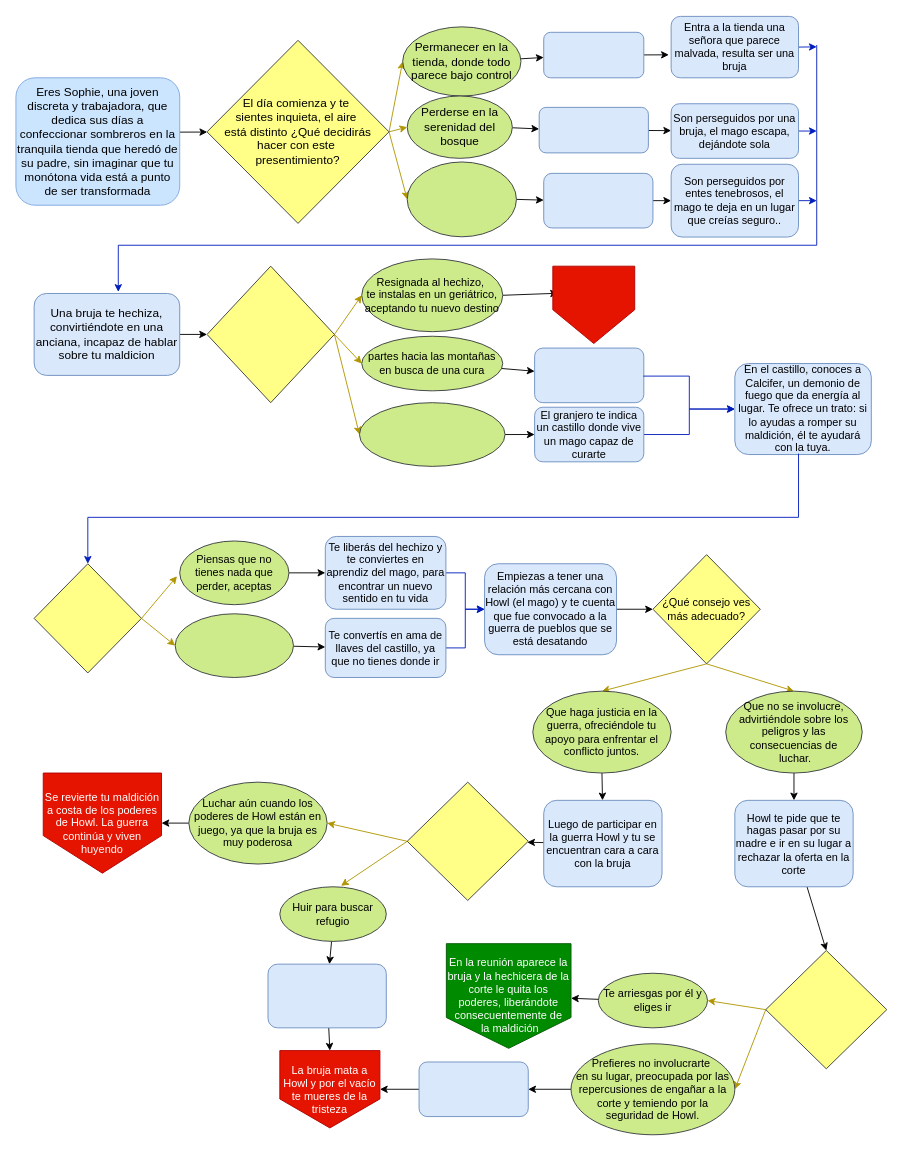
Image size: 903x1150. Some labels were removed from this diagram. The shapes that lost their labels are listed below. From the top down, each one's box as (x1, y1, x2, y2) in pixels, then its label:
(543, 31, 644, 78): Atiendes clientes de manera regular
(538, 106, 648, 153): Te encuentras un misterioso mago rubio
(406, 161, 516, 237): Salir a descubrir lo que esconde la bulliciosa ciudad
(543, 172, 653, 228): Eres acosada por soldados y rescatada por un misterioso mago rubio
(552, 265, 635, 344): Vivís ahi un año y falleces, junto a tu gato
(206, 265, 334, 403): Te quedas sin palabras pero debe actuar rápido ¿Qué harás?
(534, 347, 644, 403): Encuentras un espantapájaros mágico que te guía a un castillo ambulante
(359, 402, 505, 466): desesperada te diriges a un granjero, esperando que tenga alguna respuesta
(33, 563, 142, 673): ¿Aceptas el trato?
(174, 613, 293, 677): Desconfías de sus intenciones, te niegas
(406, 781, 528, 900): En esta situación inesperada y terrorosa, ¿Qué deciden hacer?
(267, 963, 386, 1028): A medida que avanza la guerra tus poderes y los de Howl se van desgastando
(765, 950, 887, 1069): Decides seguirle la corriente con el engaño?
(418, 1061, 528, 1117): La bruja manda entes a secuestrarte para atraer a Howl
